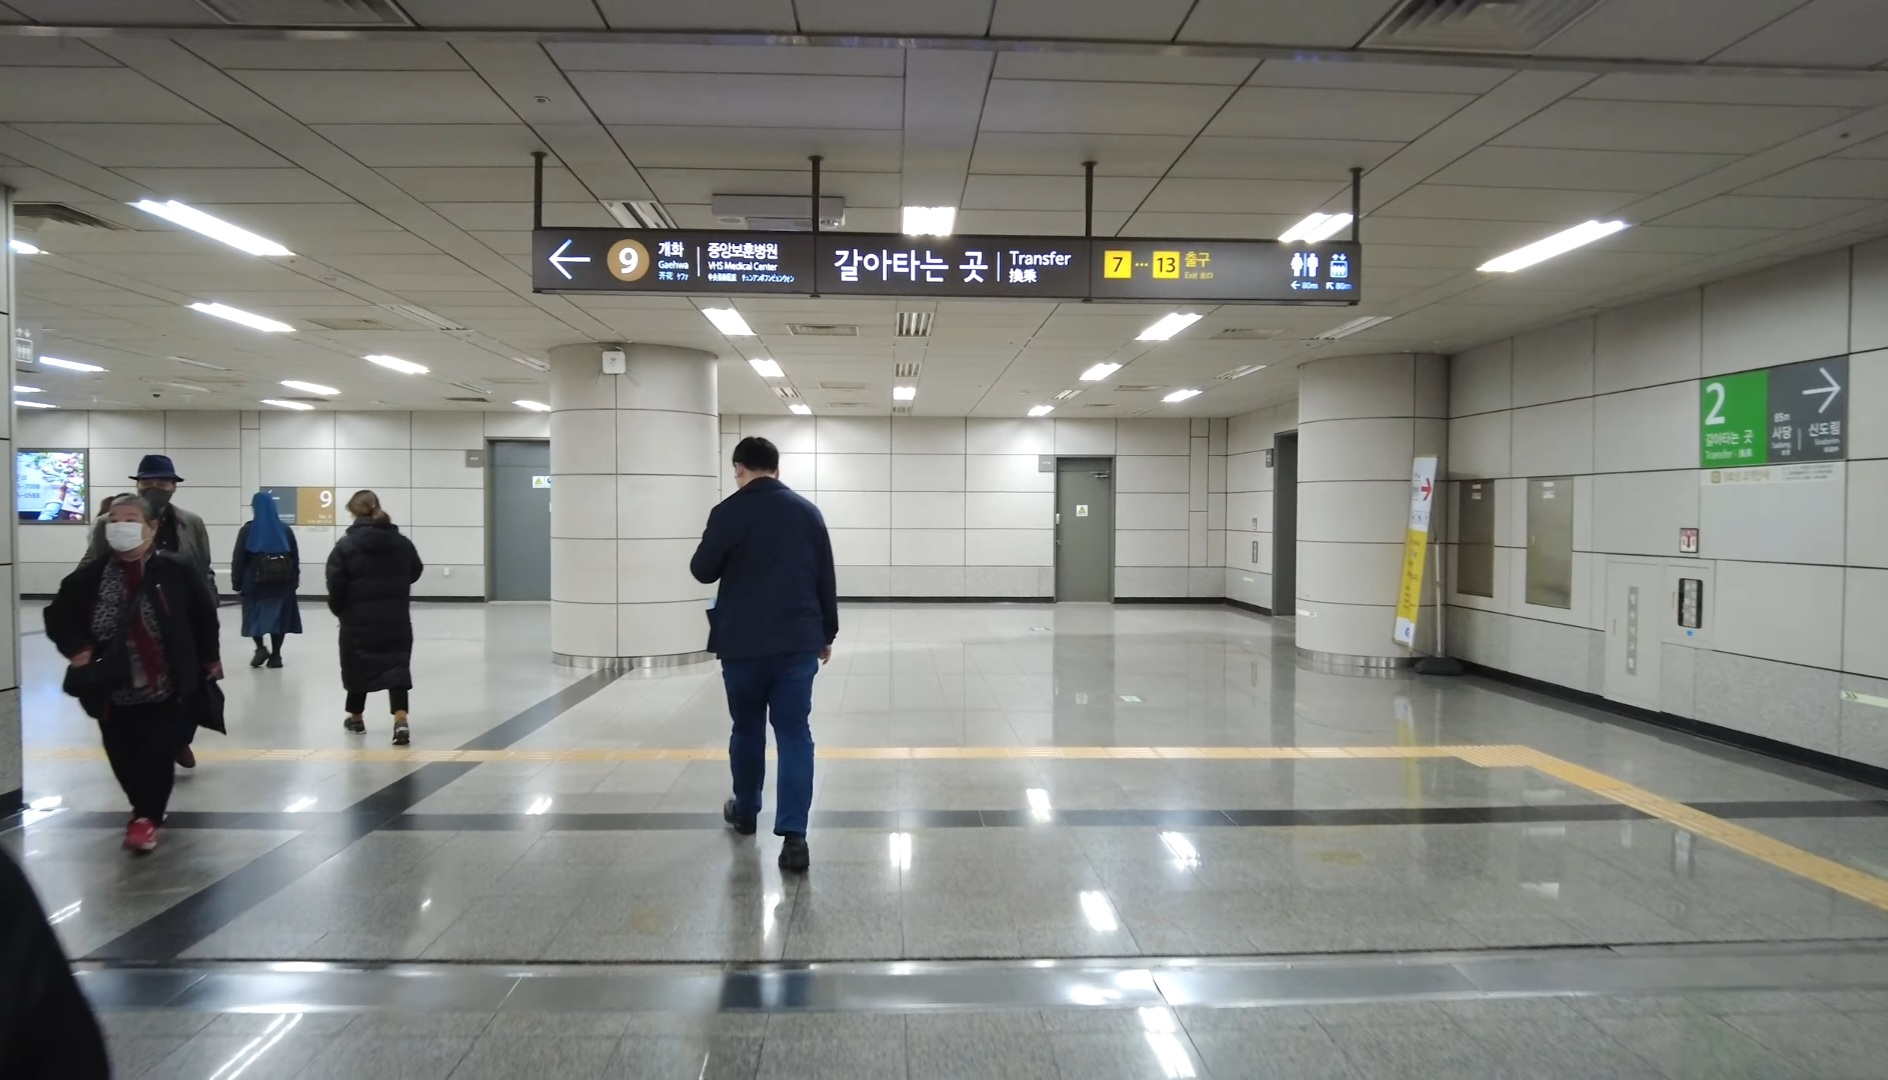signBoard: (495, 136, 1397, 333)
